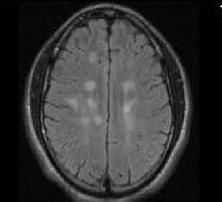Normal_Brain: (1, 1, 222, 202)
